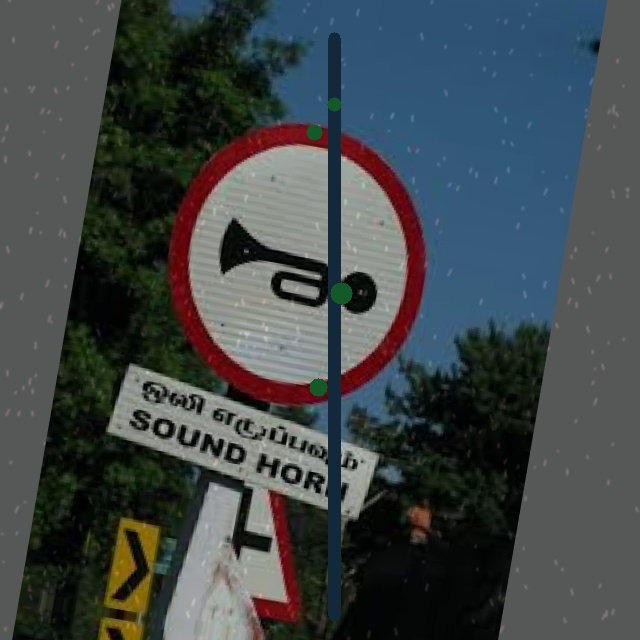Compulsory_Sound_Horn: (153, 106, 446, 415)
